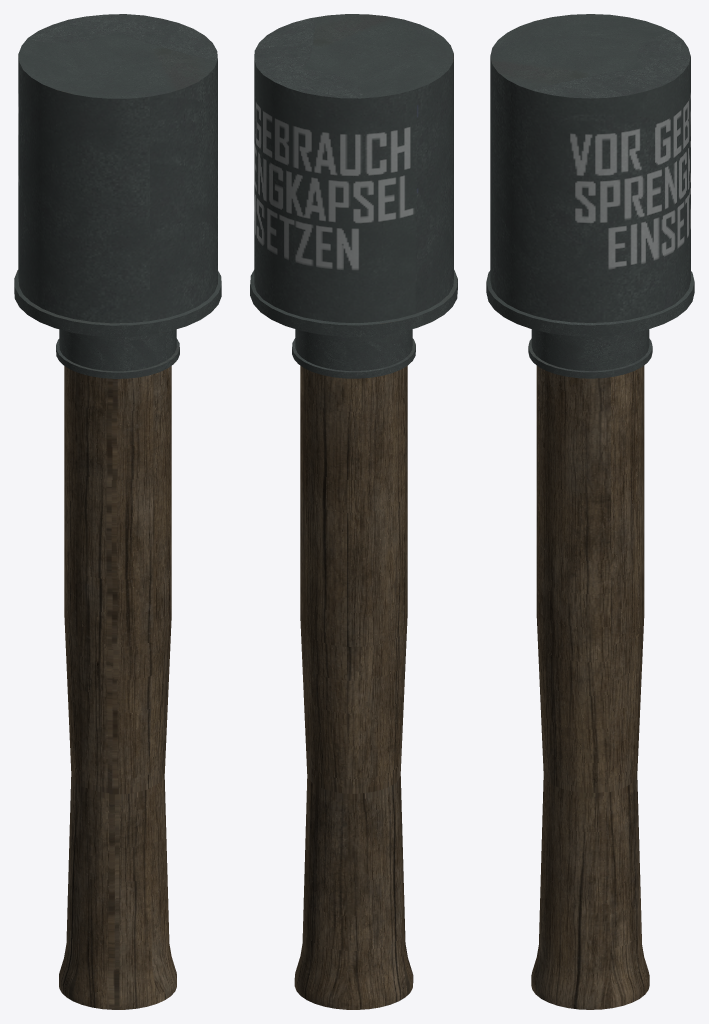
Rendered from grenade.fbx.
3 views of the same model, side by side, from view 1: azimuth 30°, elevation 25°; view 2: azimuth 150°, elevation 25°; view 3: azimuth 270°, elevation 25° (orthographic).
Visible parts, largest first — view 1: Circle; view 2: Circle; view 3: Circle.
Boxes of the visible parts, x1=… form: Circle: x1=14, y1=14, x2=221, y2=1009; Circle: x1=250, y1=14, x2=457, y2=1009; Circle: x1=486, y1=14, x2=694, y2=1009.
Size of the model in its own units: 224 by 1105 by 224.
